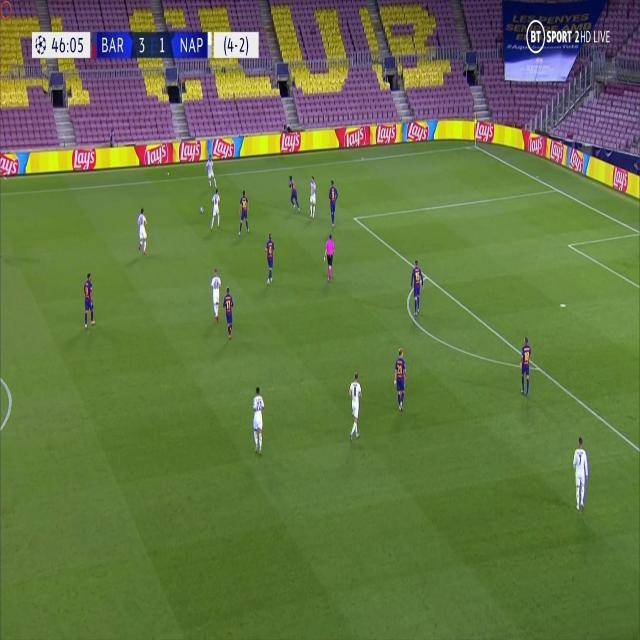ball: (199, 204, 204, 214)
player: (571, 434, 589, 514), (346, 367, 363, 443), (250, 380, 266, 456), (80, 269, 96, 330), (392, 344, 406, 412), (518, 332, 532, 396), (408, 256, 422, 316), (208, 265, 222, 321), (222, 284, 235, 341), (263, 230, 275, 284), (237, 187, 250, 236), (136, 204, 148, 255), (323, 231, 335, 282), (326, 178, 338, 226), (286, 174, 300, 213), (209, 186, 221, 231), (204, 148, 216, 187), (307, 172, 317, 218)
